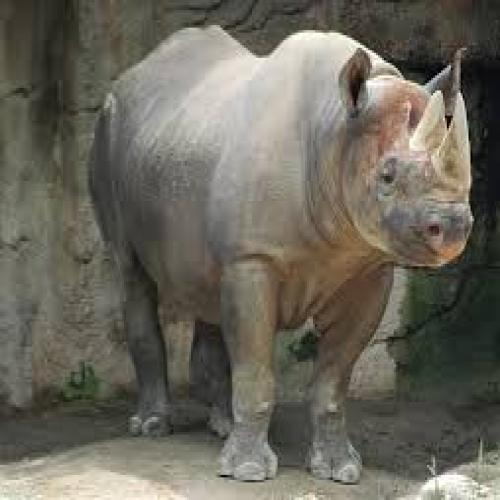rhino-endangered: (84, 23, 477, 480)
